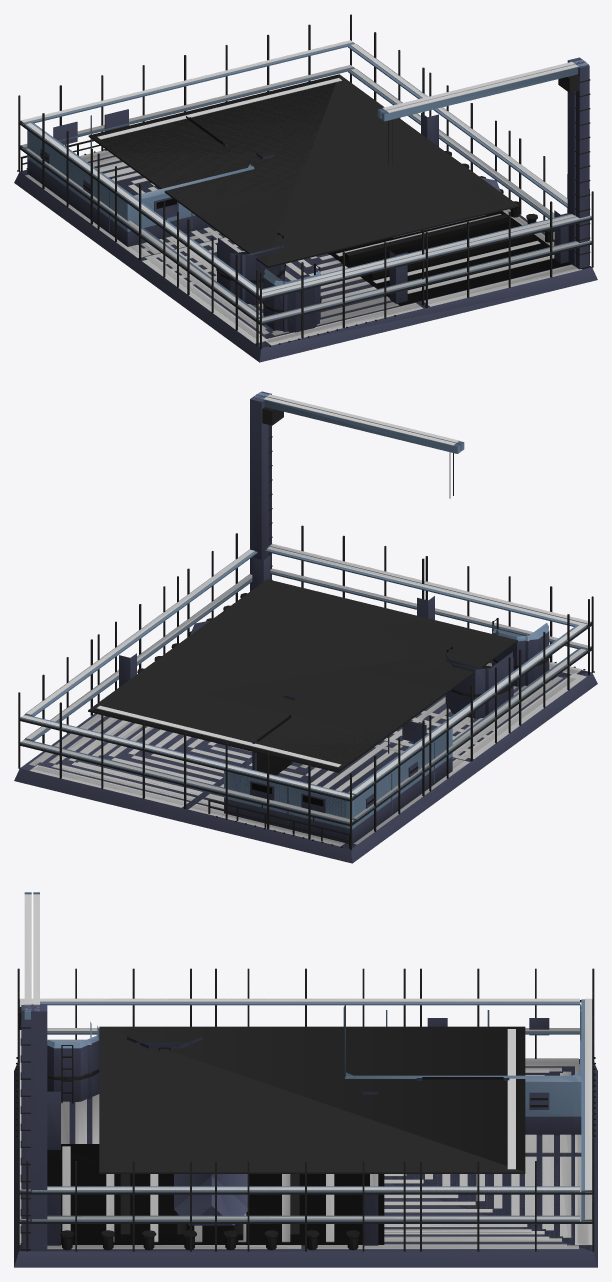
Rendered from veyran_shipyard_scaffolding.glb.
3 renders of one model, top to bottom at view 1: azimuth 30°, elevation 25°; view 2: azimuth 150°, elevation 25°; view 3: azimuth 270°, elevation 25°, orthographic. The views are drawn at different scales.
Visible parts, largest first — view 1: body (×3); view 2: body (×3); view 3: body (×3).
Part boxes in pixels (bbox=[...]): body (×3): bbox=[14, 14, 597, 362]; body (×3): bbox=[14, 391, 597, 863]; body (×3): bbox=[14, 892, 597, 1267].
Bounding box in the file's own units: 14.8 × 8.94 × 18.6.
